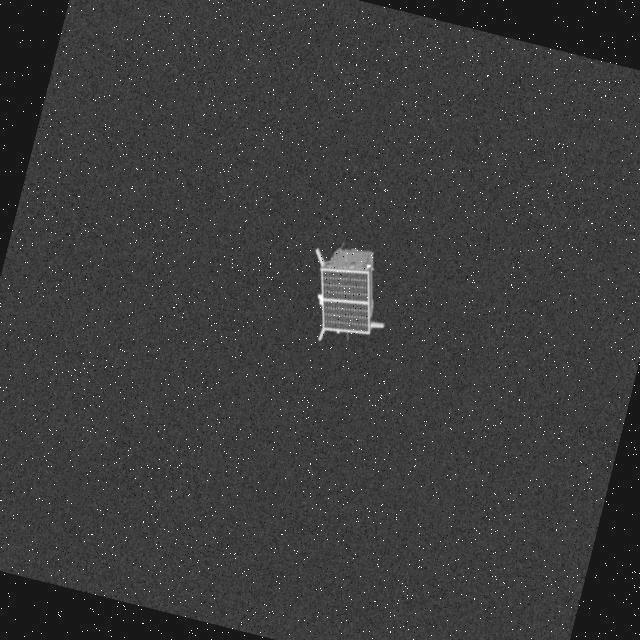satellite: (306, 234, 384, 348)
